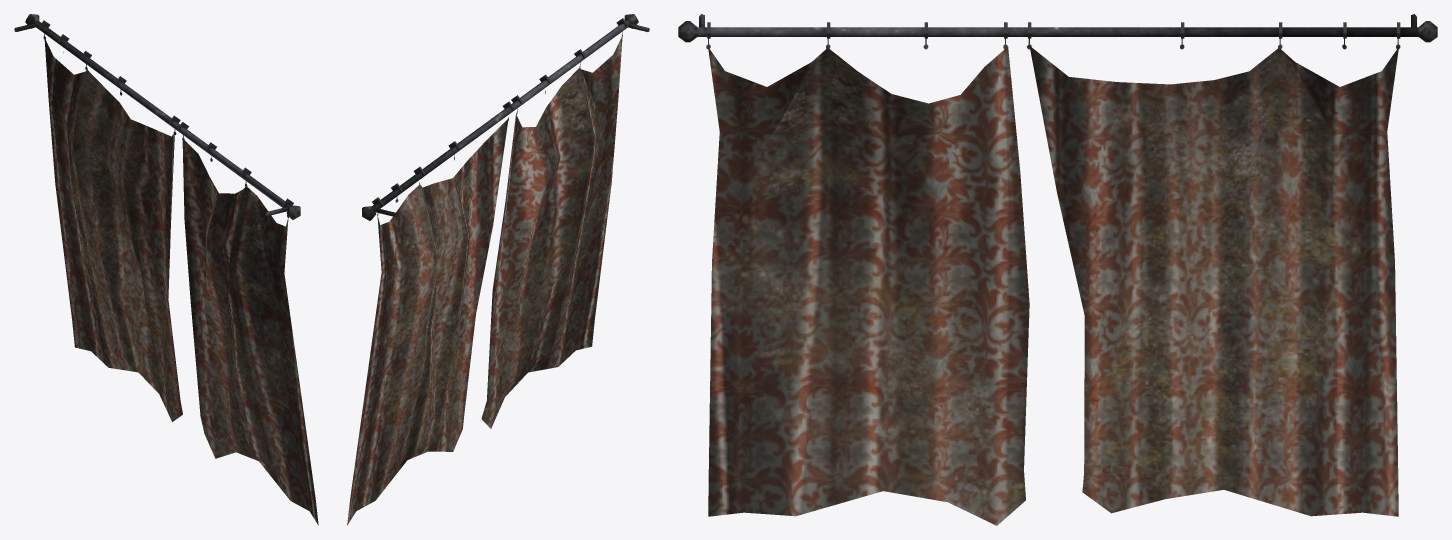
Rendered from Double_ExpCurtainSet_T01.FBX.
The picture shows the model from 3 angles, left to right: view 1: azimuth 30°, elevation 25°; view 2: azimuth 150°, elevation 25°; view 3: azimuth 270°, elevation 25°; orthographic projection. The views are drawn at different scales.
Parts seen in each view (by area): view 1: Double_ExpCurtainSet_T01; view 2: Double_ExpCurtainSet_T01; view 3: Double_ExpCurtainSet_T01.
Part boxes in pixels (x1,y1,x2,y2): Double_ExpCurtainSet_T01: (14, 14, 318, 525); Double_ExpCurtainSet_T01: (347, 14, 649, 524); Double_ExpCurtainSet_T01: (678, 14, 1437, 525).
Size of the model in its own units: 34.13 by 193 by 275.
